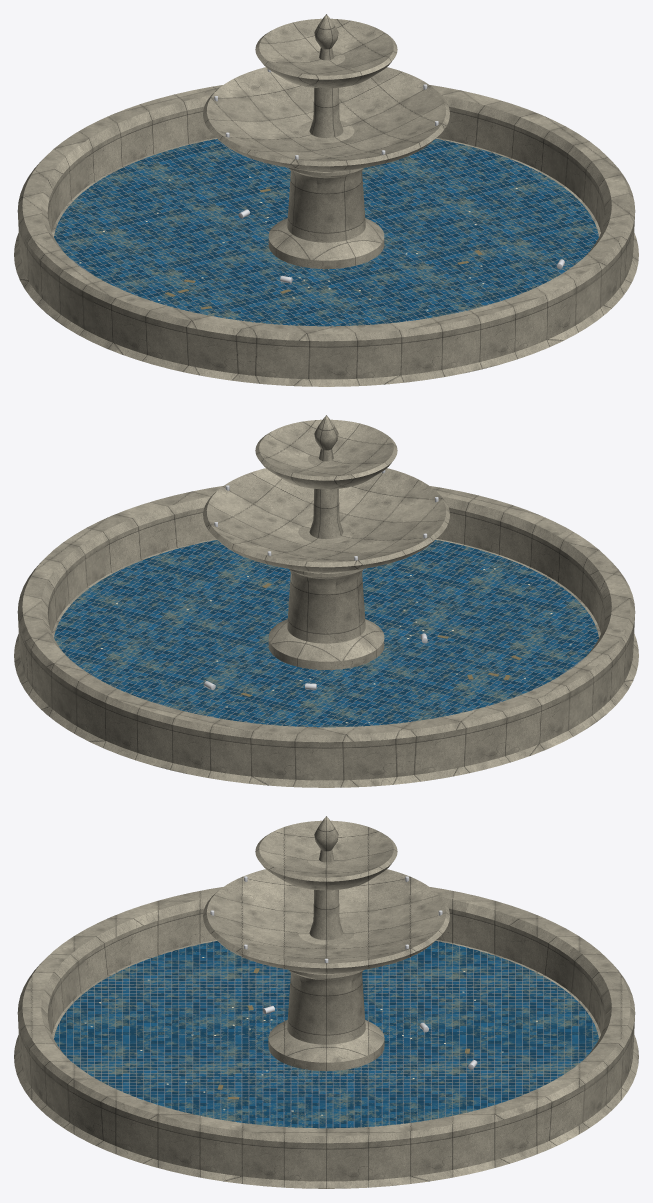
Rendered from Fountain.fbx.
3 renders of one model, top to bottom at view 1: azimuth 30°, elevation 25°; view 2: azimuth 150°, elevation 25°; view 3: azimuth 270°, elevation 25°, orthographic.
Visible parts, largest first — view 1: Fountain; view 2: Fountain; view 3: Fountain.
Part boxes in pixels (x1=…): Fountain: x1=14, y1=14, x2=638, y2=386; Fountain: x1=14, y1=415, x2=638, y2=787; Fountain: x1=14, y1=816, x2=638, y2=1188.
Size of the model in its own units: 6.68 by 2.84 by 6.68.
